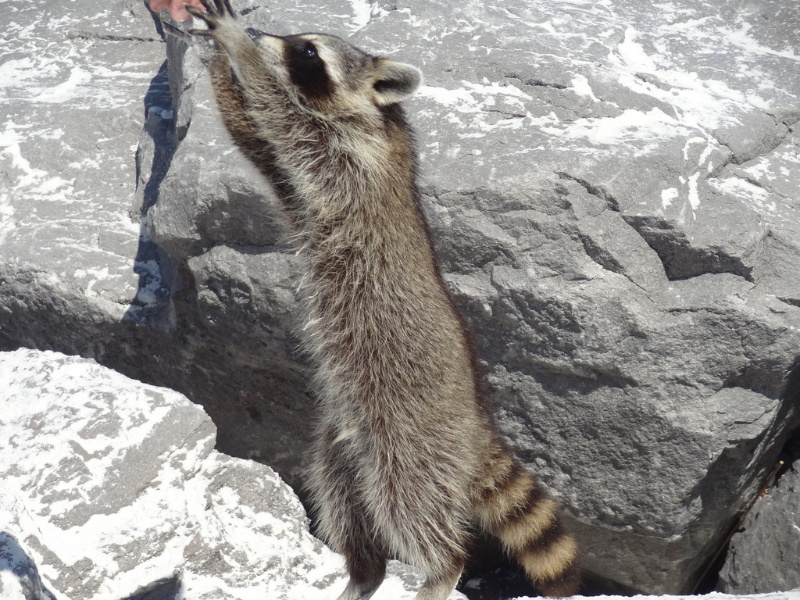raccoon: (157, 10, 587, 599)
